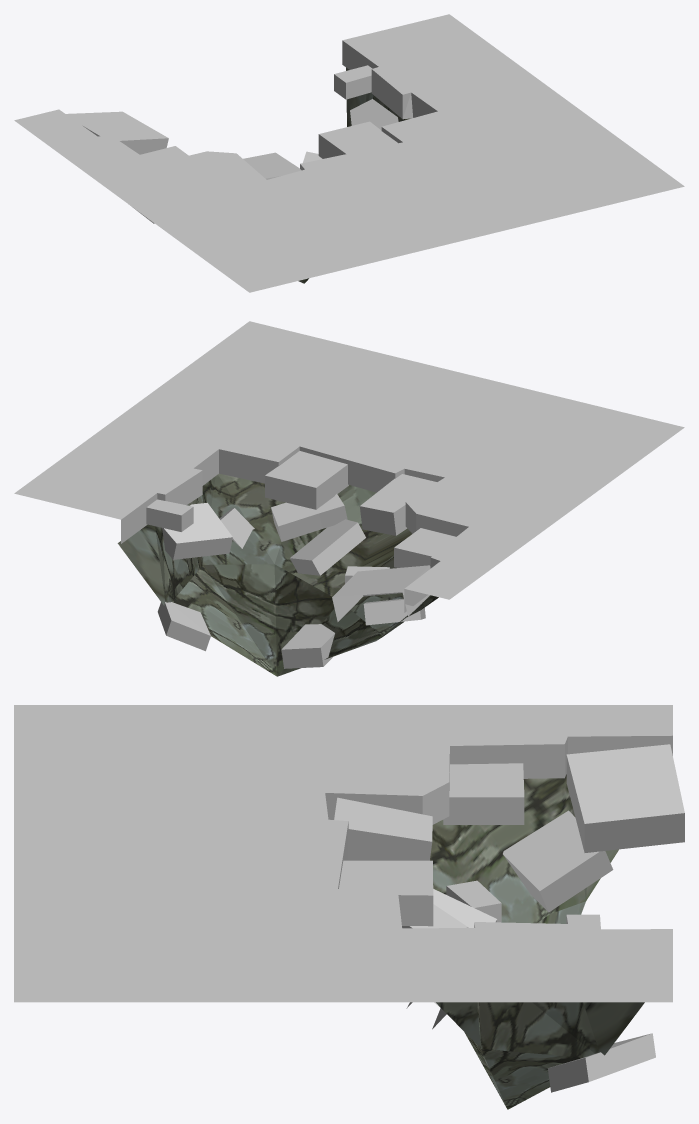
Rendered from 2_WGJ_PoQiao_01.FBX.
The picture shows the model from 3 angles, top to bottom: view 1: azimuth 30°, elevation 25°; view 2: azimuth 150°, elevation 25°; view 3: azimuth 270°, elevation 25°; orthographic projection. The views are drawn at different scales.
Visible parts, largest first — view 1: 2_WGJ_PoQiao_01; view 2: 2_WGJ_PoQiao_01; view 3: 2_WGJ_PoQiao_01.
Part boxes in pixels (x1,y1,x2,y2): 2_WGJ_PoQiao_01: (14, 14, 684, 292); 2_WGJ_PoQiao_01: (14, 321, 684, 676); 2_WGJ_PoQiao_01: (14, 705, 684, 1109).
Size of the model in its own units: 1301 by 504 by 1241.
